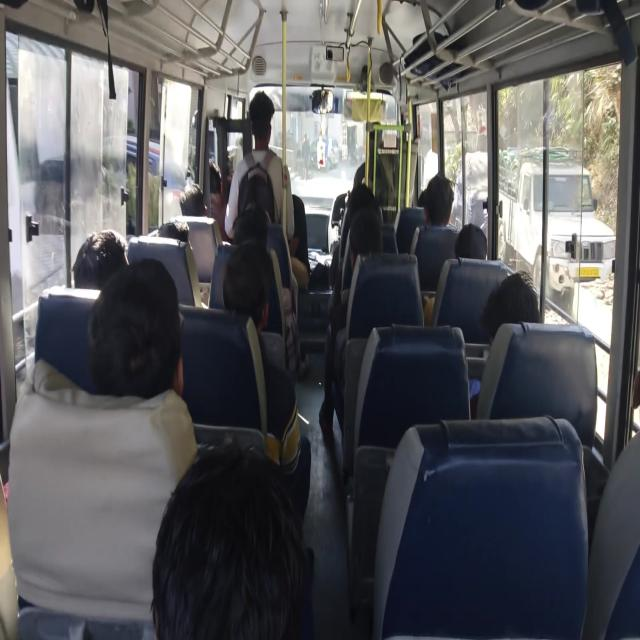person: (146, 482, 286, 640), (91, 288, 176, 390), (68, 237, 139, 299), (226, 261, 270, 349), (499, 276, 541, 360), (452, 227, 496, 293), (344, 157, 382, 217), (356, 214, 396, 271), (192, 146, 228, 205), (429, 172, 458, 236), (221, 221, 278, 253), (254, 94, 282, 159), (230, 199, 276, 232), (154, 222, 192, 254), (417, 175, 438, 230), (179, 188, 204, 213)
